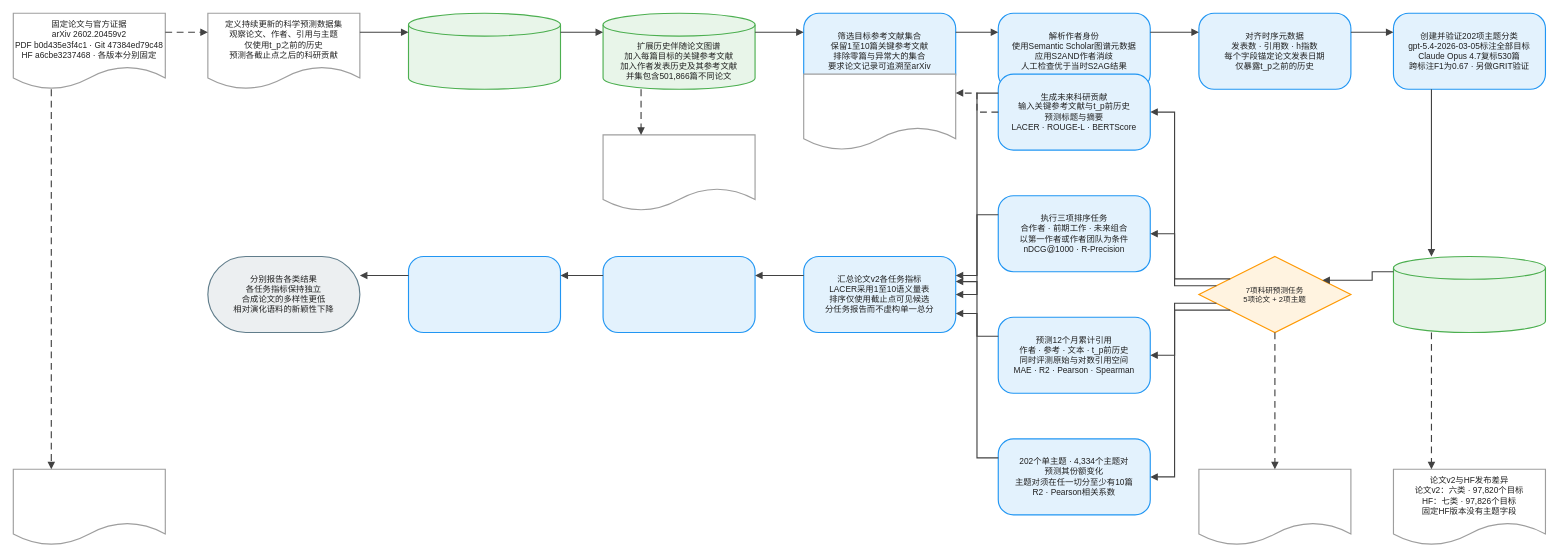
Image size: 1560x559. Some labels were removed from this diagram. The centre of each missing label's shape, as x and y in pixels:
"LACER实现边界 默认评审为gpt-5-2025-08-07 解析器读取Score后的数值 API生成默认参数未固定" belongs at [879,111].
"公开重建边界 发布数据使用内部Semantic Scholar API 公开脚本仅在意图上等价 结果可能变化 · 不保证字节一致" belongs at [678,172].
"固定目标论文时间窗 2023年10月至2025年9月 六个AI类别 · 不含cs.ML 训练44,984 · 测试52,836 · 共97,820" belongs at [484,51].
"固定论文v2描述的数据状态 训练44,984 · 测试52,836 目标97,820 · 全部501,866篇 主题 · 作者 · 参考 · 引用轨迹" belongs at [1469,294].
"组合12个月语料模拟 从2024年10月1日的历史开始 按日抽取论文数与团队规模 预测合作者与参考文献 将生成论文回写语料" belongs at [678,294].
"许可证与榜单边界 Git代码：Apache 2.0 HF数据：ODC-BY 1.0 未找到官方排行榜" belongs at [89,507].
"论文v2与固定代码差异 论文v2定义七项任务 固定仓库只提供四个任务目录 没有未来组合或主题趋势运行器" belongs at [1274,507].
"评测合成语料动态 每月抽100篇论文 检索10个GRIT近邻 重复六次模拟 LACER多样性 · LACER新颖性" belongs at [484,294].
